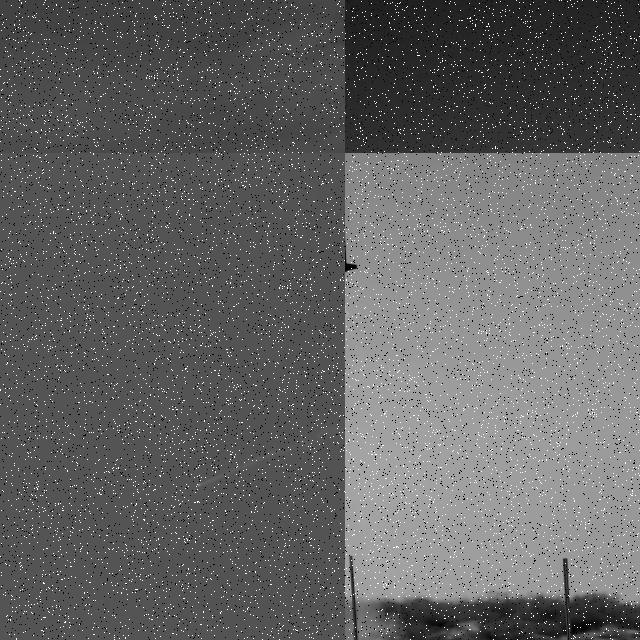Rocket: (345, 153, 358, 275), (197, 484, 199, 486)
